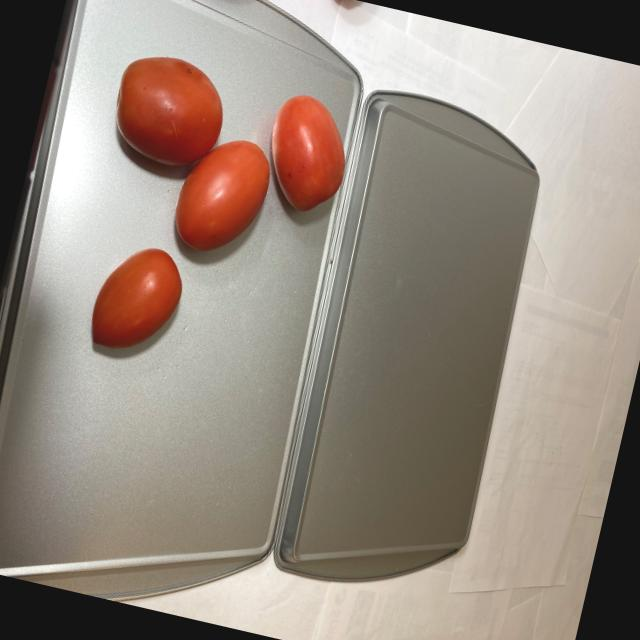tomato: (56, 42, 360, 406)
